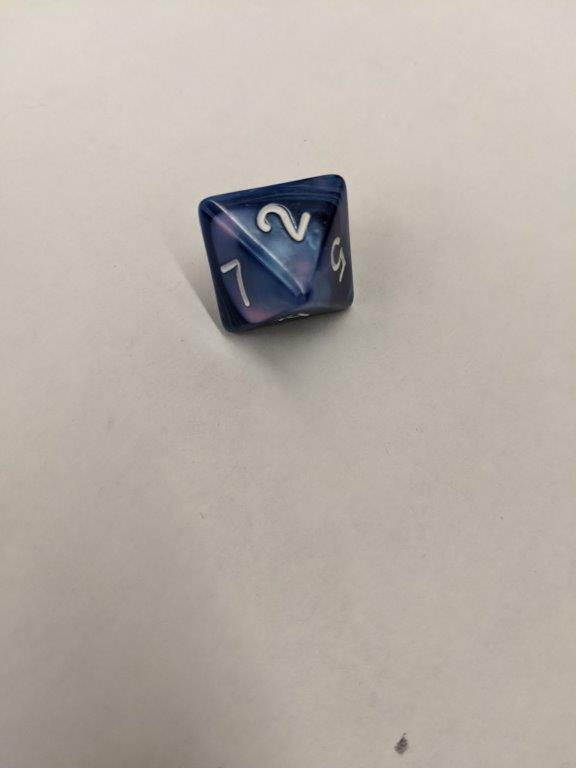d8-2: (197, 172, 358, 335)
